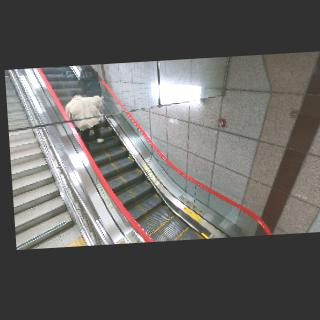normal: (64, 88, 108, 147), (78, 65, 106, 123)
